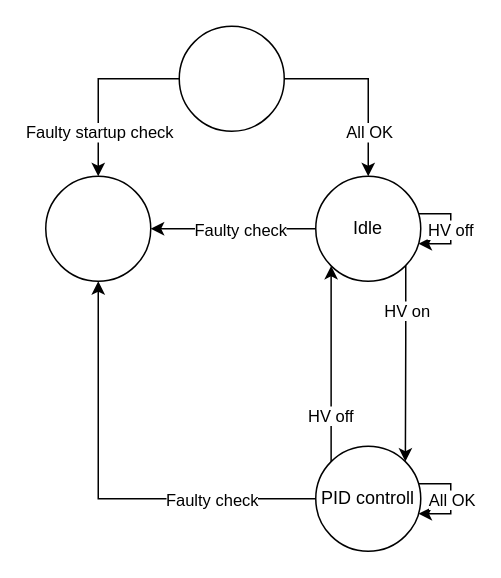
This 501x578 diagram has some shape labels left out. The shapes that lost their labels are listed below. From the top down, each one's centre as x and y in pixels, then its label:
At (231,78): "Initialization".
At (97,228): "Error".
